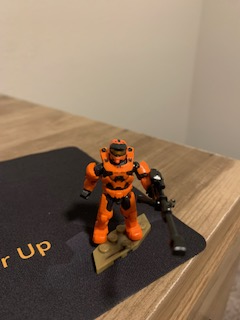spartan: (77, 136, 156, 247)
